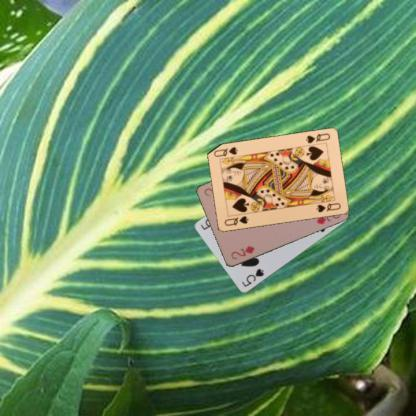2d: (228, 243, 256, 261)
5s: (239, 266, 265, 288)
Qs: (302, 130, 332, 146), (222, 213, 249, 227)
